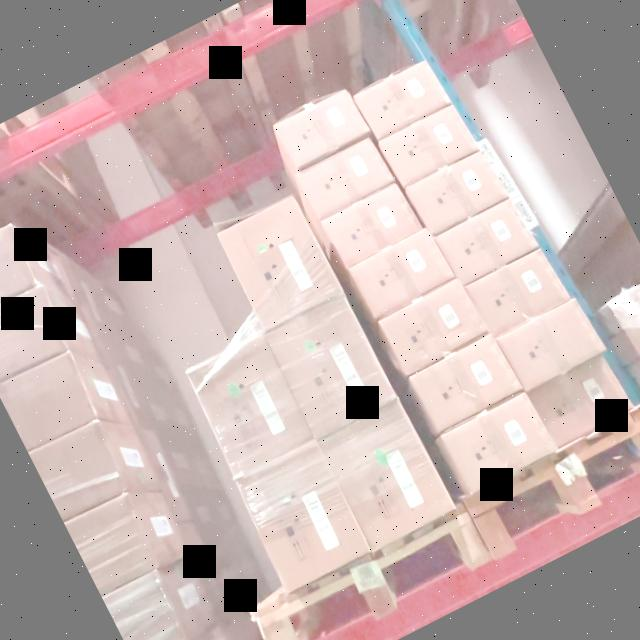box: (237, 443, 372, 591), (322, 402, 456, 548), (268, 298, 397, 437), (189, 338, 316, 477), (218, 195, 342, 328), (441, 392, 556, 492), (412, 334, 524, 432), (347, 226, 456, 320), (380, 281, 488, 374), (0, 352, 99, 450), (466, 246, 570, 338), (31, 422, 128, 520), (500, 298, 604, 389), (531, 354, 633, 446), (65, 496, 158, 594), (381, 104, 479, 188), (438, 199, 534, 284), (409, 151, 506, 235), (324, 183, 421, 267), (352, 58, 450, 140), (276, 90, 370, 170), (301, 138, 394, 218), (0, 286, 71, 382), (103, 573, 189, 640), (0, 226, 39, 316)
